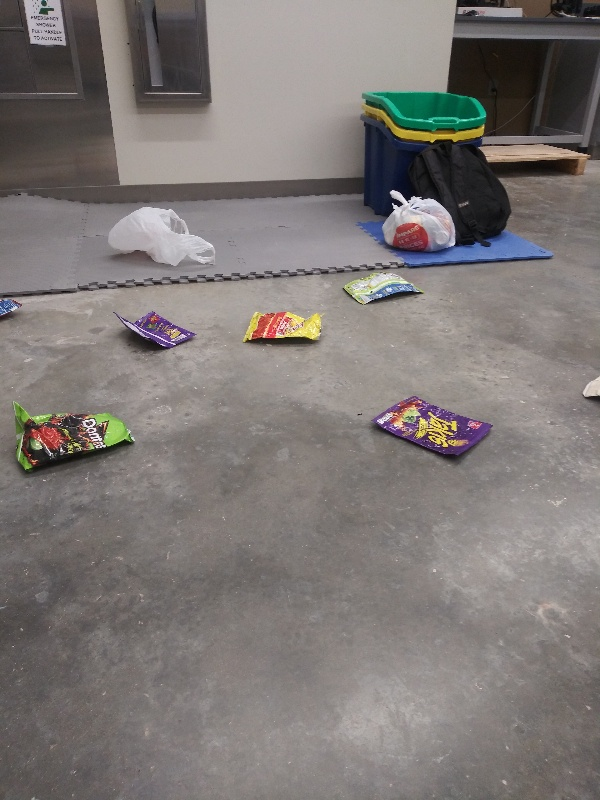bag: (10, 400, 138, 481), (369, 391, 497, 465), (110, 308, 200, 354), (238, 306, 327, 348), (340, 268, 424, 306), (1, 290, 26, 327), (577, 369, 600, 405)
